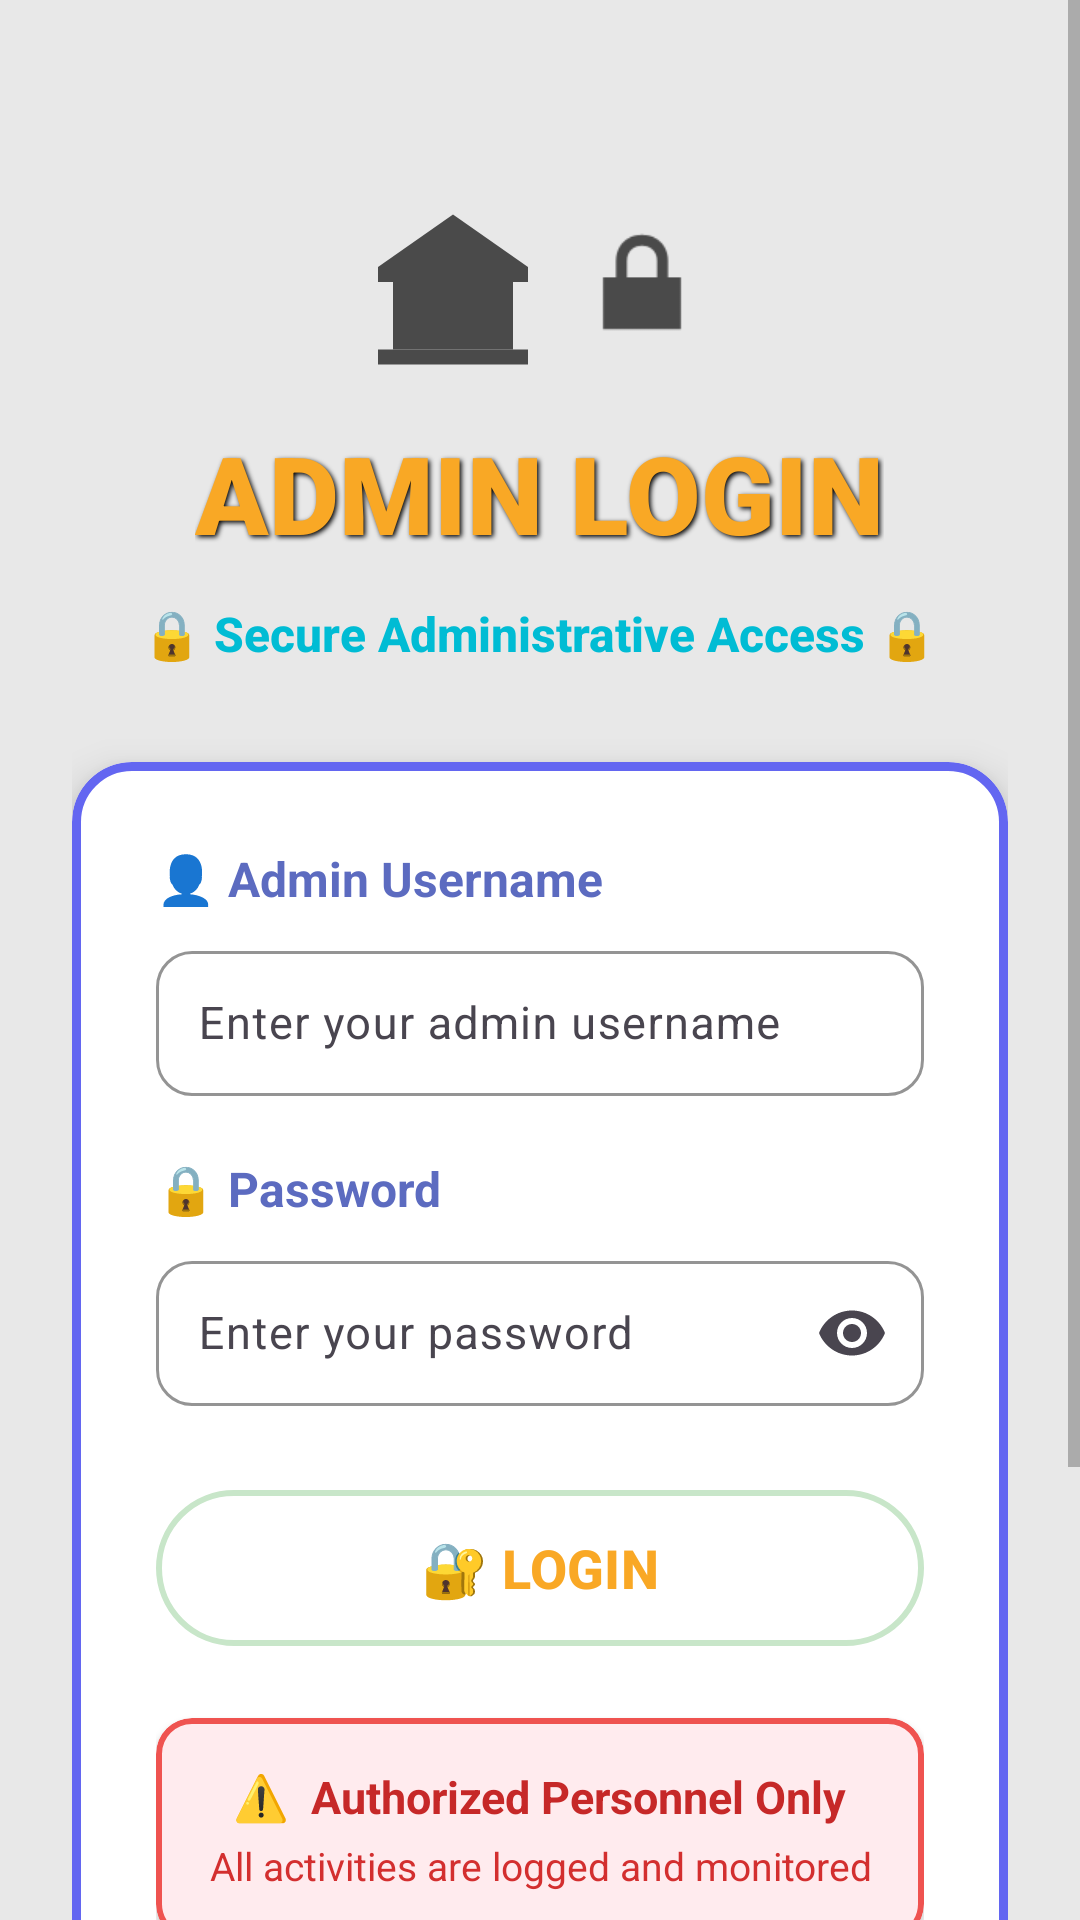

Screen size 1080x1920. Icon name, then its center in pixels as (x,y):
Lock Icon: (642,282)
